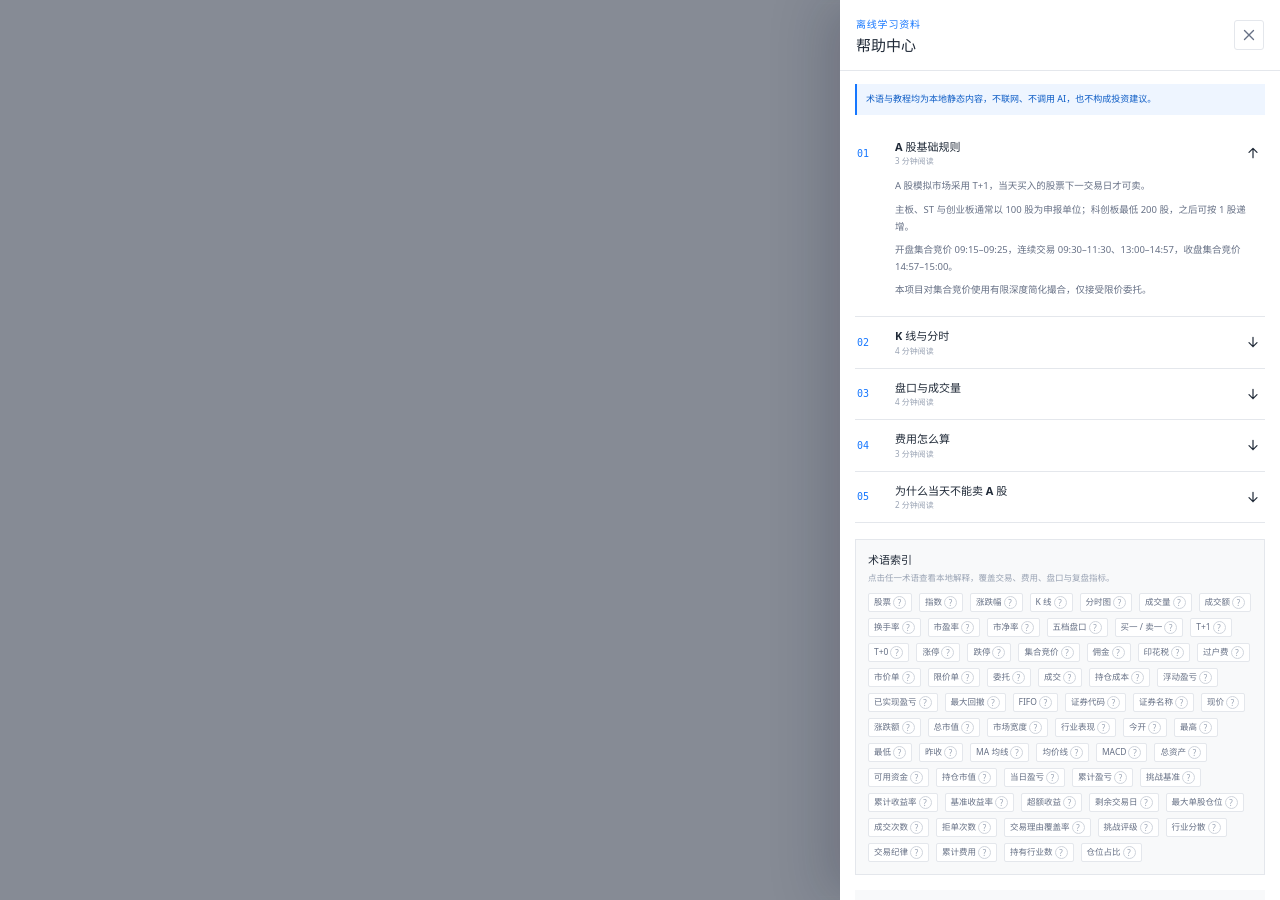
broker interface components › opens a glossary term from the local help drawer
Click the button named "查看“最大回撤”术语解释": (993, 703) 986,696 -> 1000,709
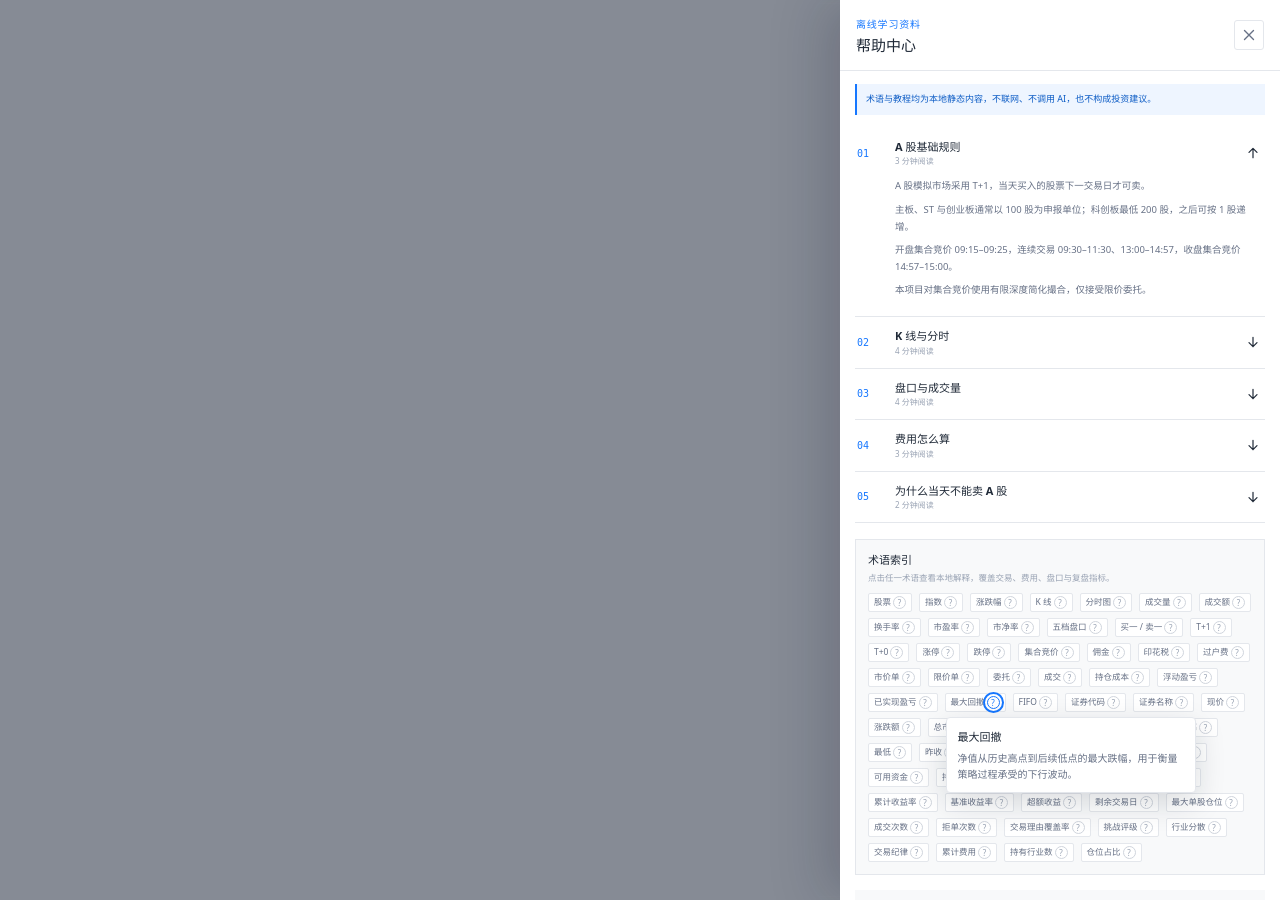
Expected: the text "净值从历史高点到后续低点的最大跌幅，用于衡量策略过程承受的下行波动。" is shown, 958,750 -> 1184,782
